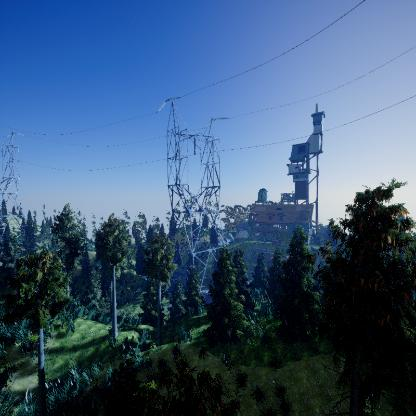tower: (155, 96, 232, 293)
